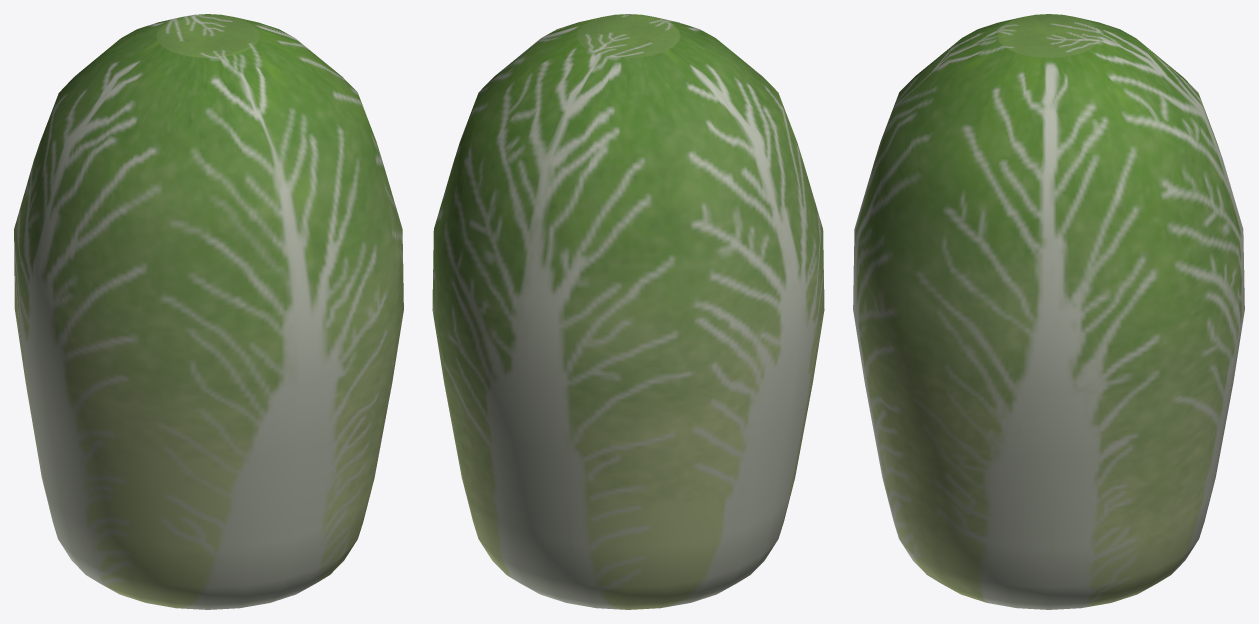
3 renders of one model, left to right at view 1: azimuth 30°, elevation 25°; view 2: azimuth 150°, elevation 25°; view 3: azimuth 270°, elevation 25°, orthographic.
Visible parts, largest first — view 1: SM_Korean_Cabbage; view 2: SM_Korean_Cabbage; view 3: SM_Korean_Cabbage.
Part boxes in pixels (box(x1,y1,x2,y2)): SM_Korean_Cabbage: box(14, 14, 403, 609); SM_Korean_Cabbage: box(432, 14, 824, 609); SM_Korean_Cabbage: box(853, 14, 1244, 609).
Bounding box in the file's own units: 0.204 × 0.3097 × 0.2042.
Materials: 1 (1 with a texture image).
